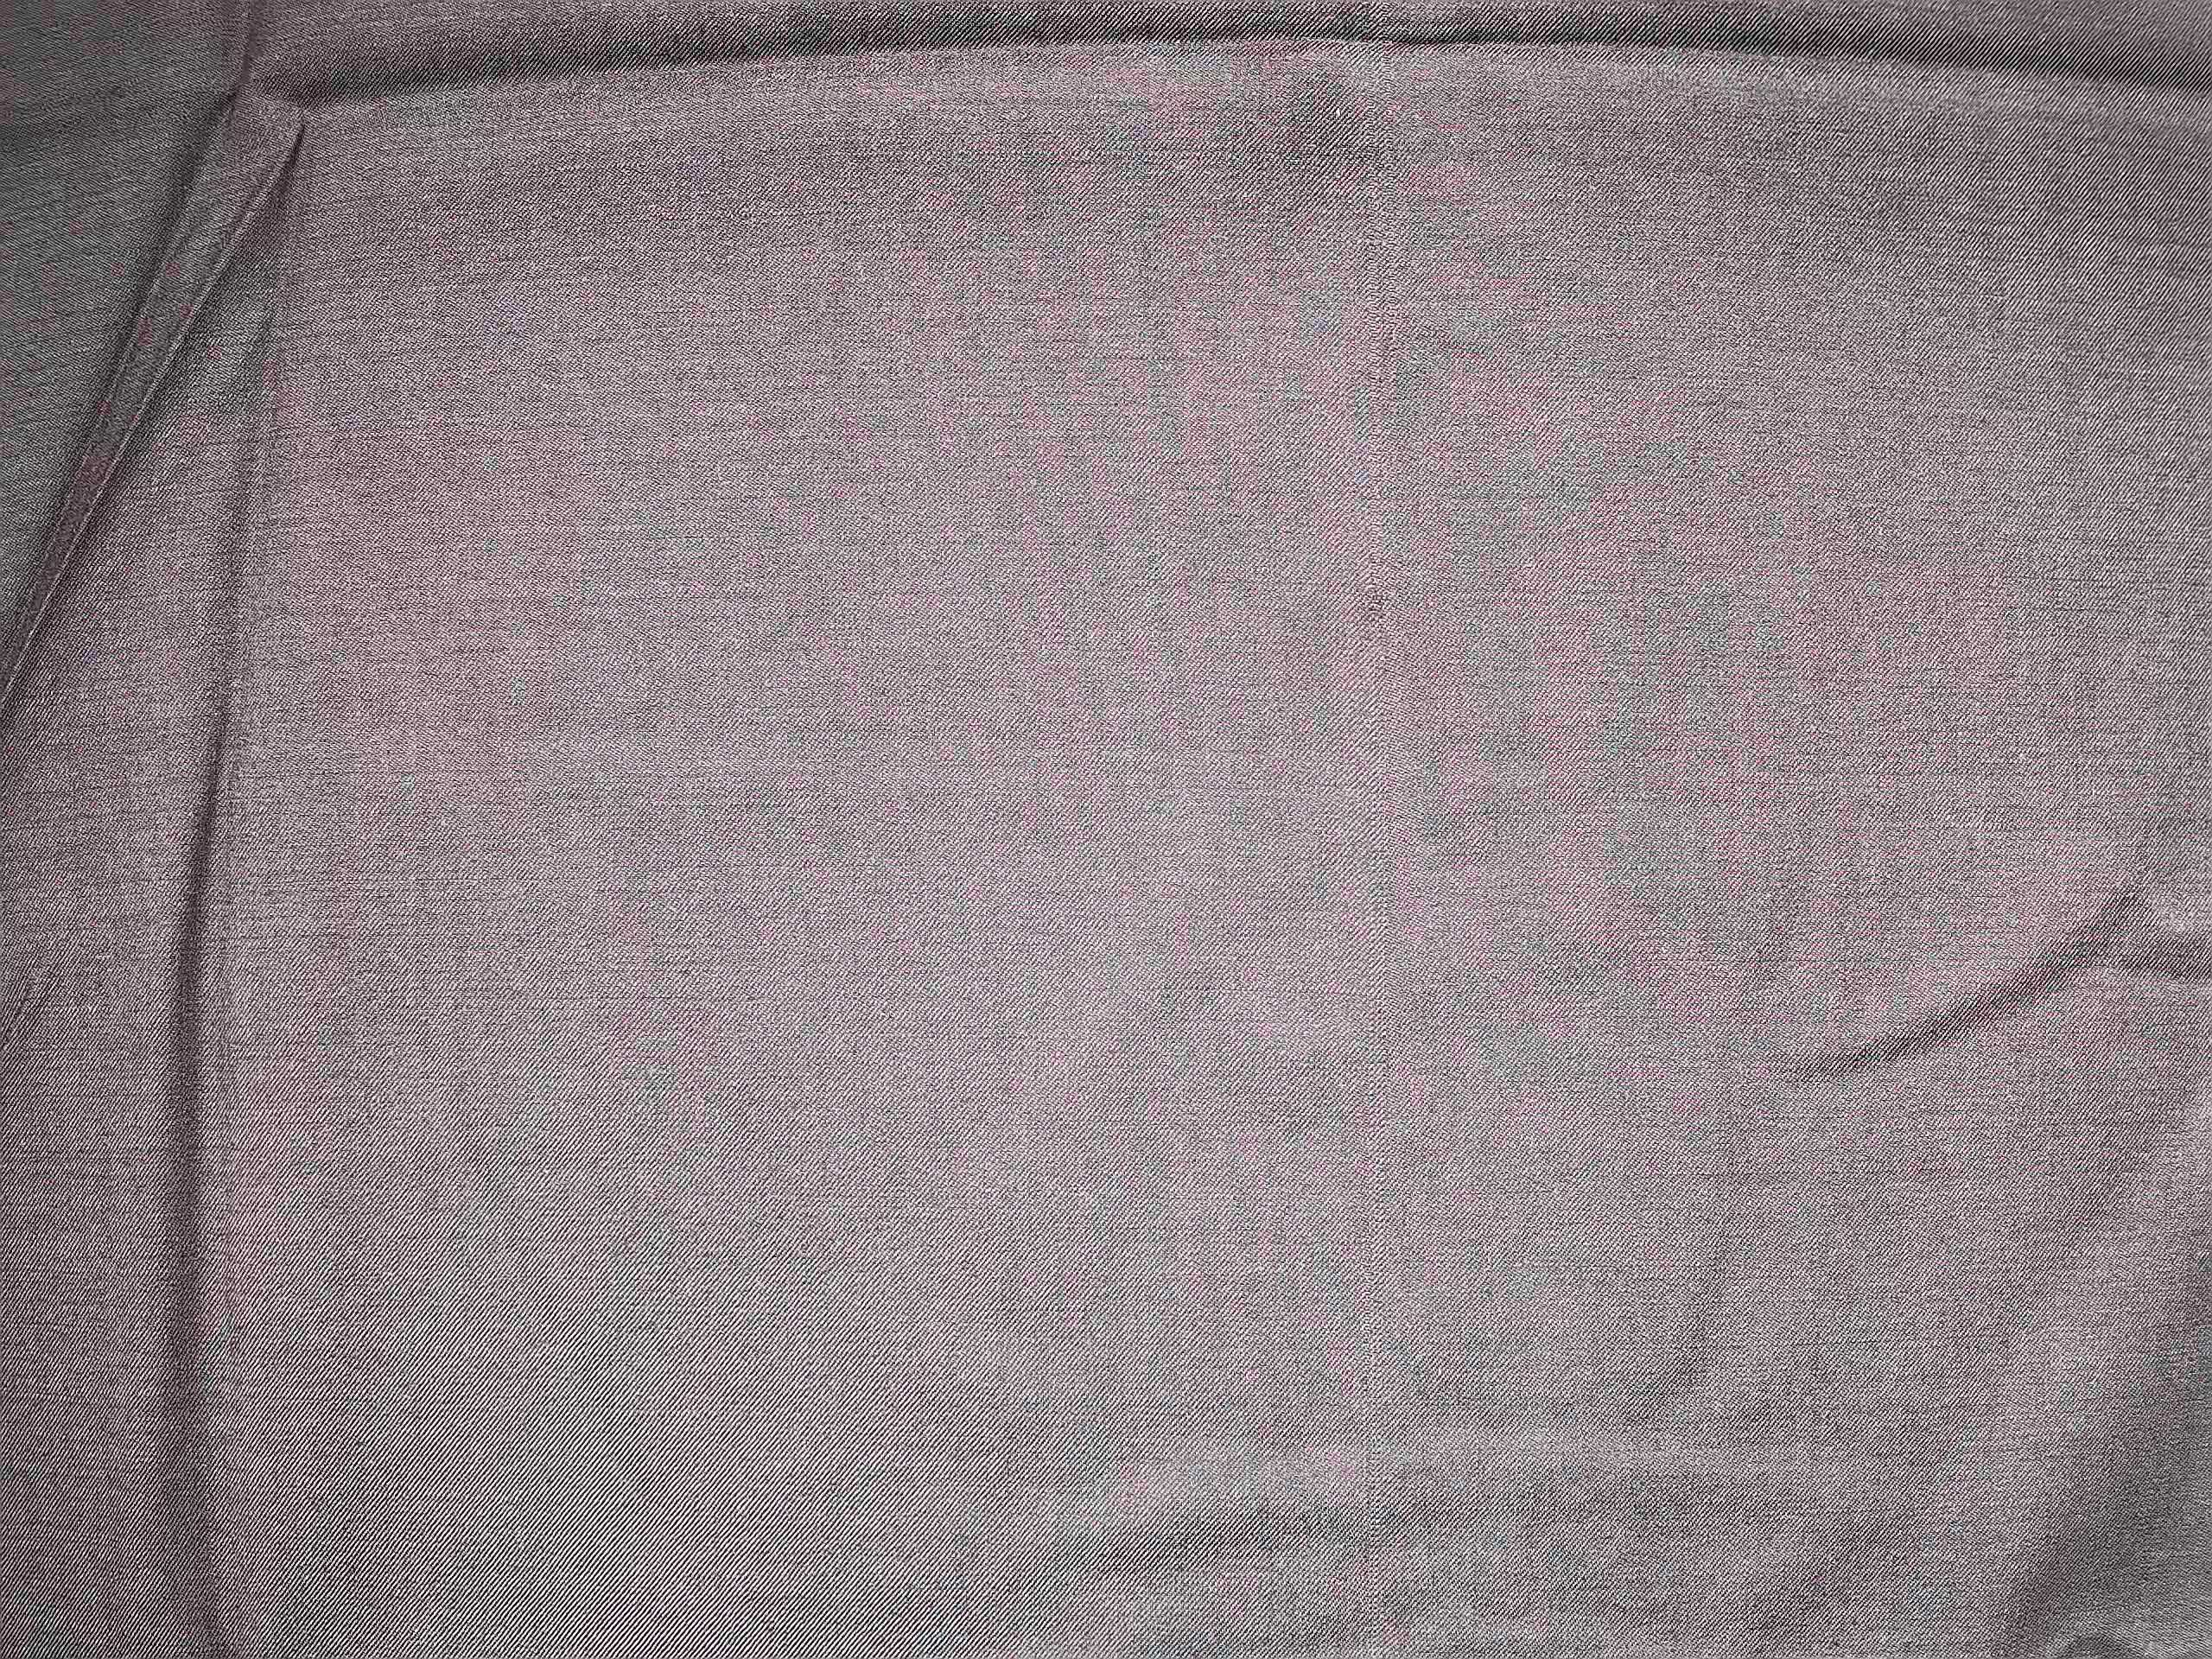hanging-warp: (1346, 9, 1402, 1645)
